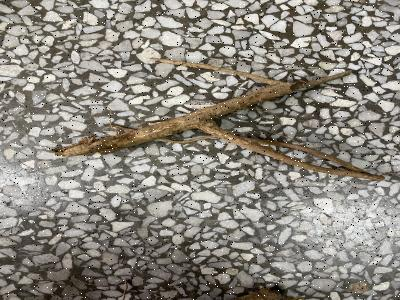Root: (52, 71, 384, 181)
